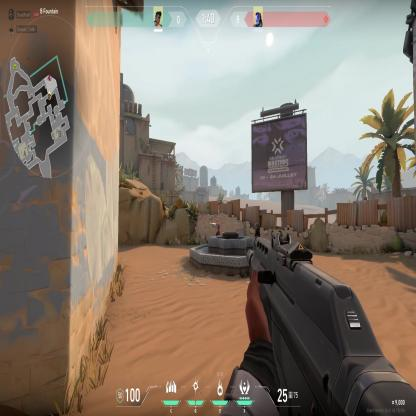enemy: (212, 218, 221, 236)
